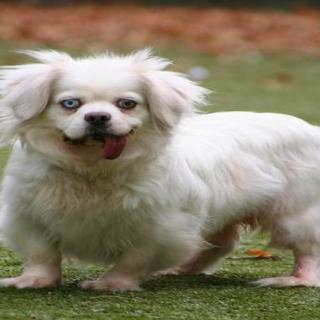dog: (0, 43, 207, 175)
nose: (82, 107, 115, 127)
